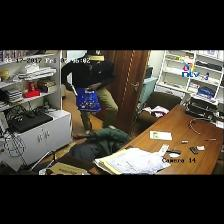person: (62, 51, 117, 128), (66, 129, 136, 162)
